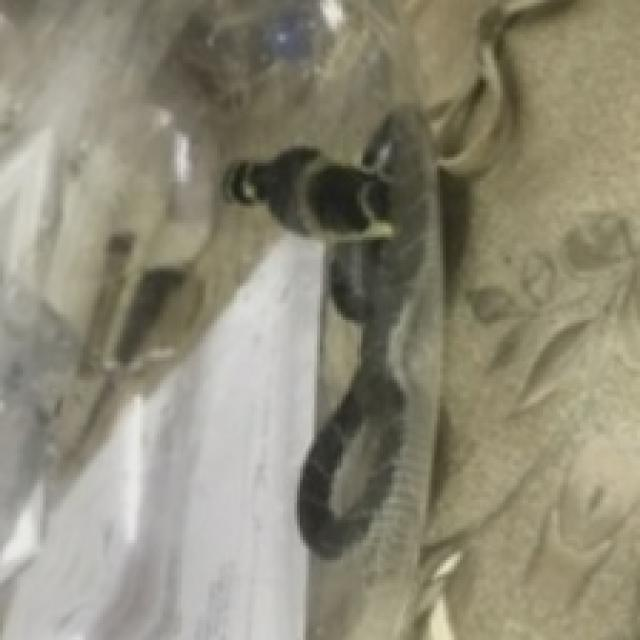king cobra: (224, 6, 522, 639)
